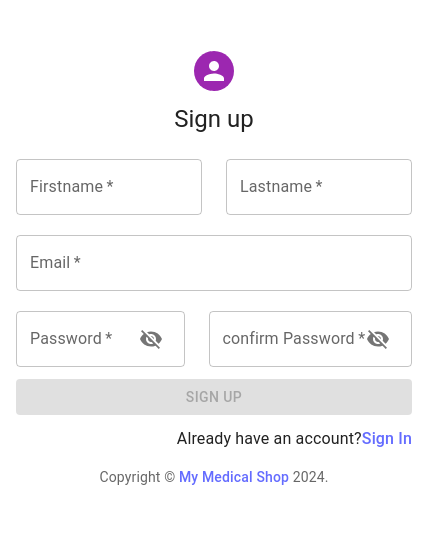
Test: Register › Button must be disabled when only firstname exists and appropriate required error message must be shown
Type "Vaishnavi" into the field with test id "sign-up-firstname" at (109, 187), box [16,159,202,215]
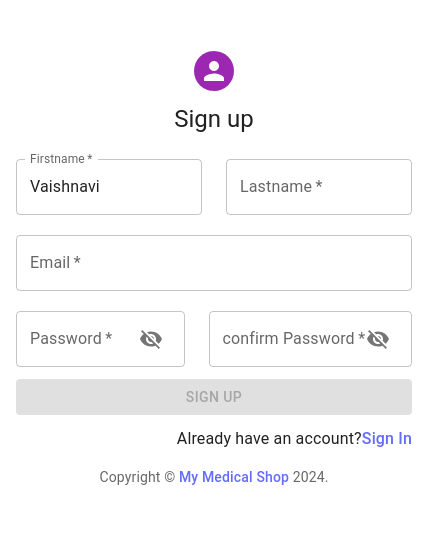
Leave the password field with test id "sign-up-confirm-password", box [208,311,350,367]
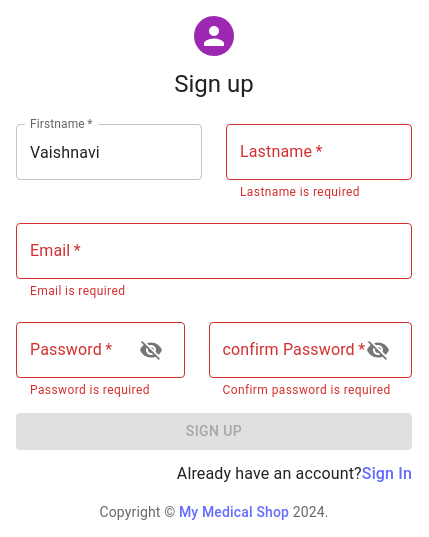
Check: the text "Lastname is required" is shown, box [240,185,360,199]
Check: the text "Email is required" is shown, box [30,284,125,298]
Check: the text "Password is required" is shown, box [30,381,170,401]
